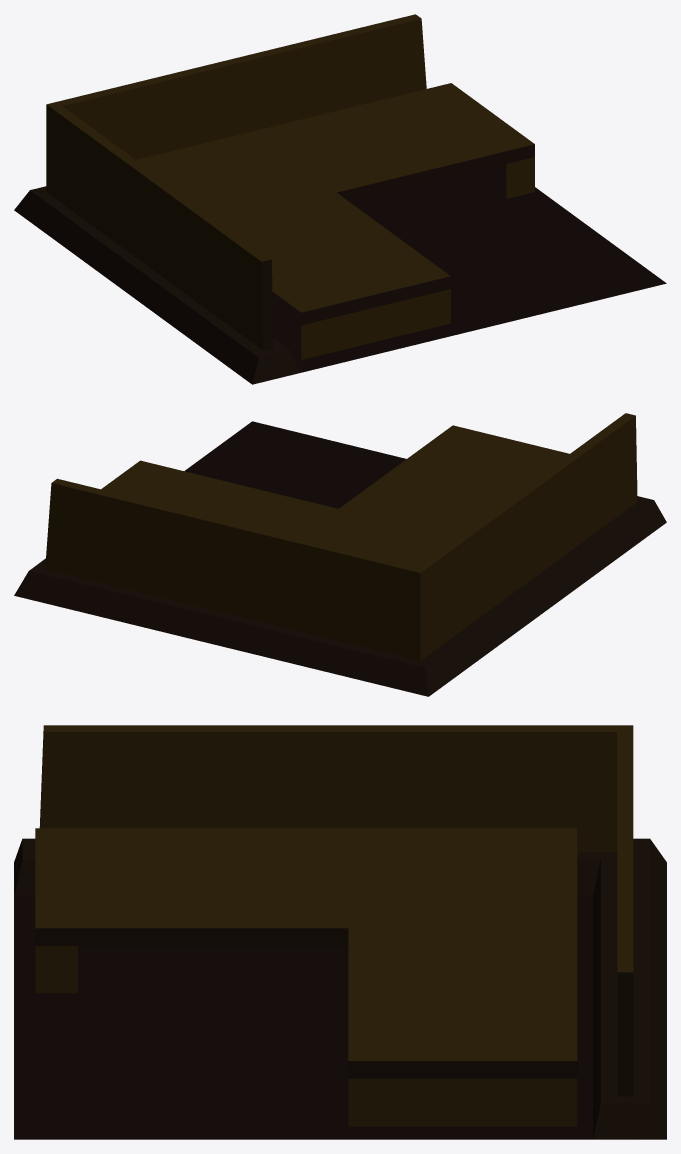
File: corner_wall_wooded.obj
The picture shows the model from 3 angles, top to bottom: view 1: azimuth 30°, elevation 25°; view 2: azimuth 150°, elevation 25°; view 3: azimuth 270°, elevation 25°; orthographic projection. The views are drawn at different scales.
Visible parts, largest first — view 1: Plane; view 2: Plane; view 3: Plane.
Boxes of the visible parts, box(x1,y1,x2,y2) form: Plane: box(14, 14, 666, 384); Plane: box(14, 413, 666, 696); Plane: box(14, 725, 666, 1139).
Size of the model in its own units: 1.94 by 0.4912 by 1.93.
